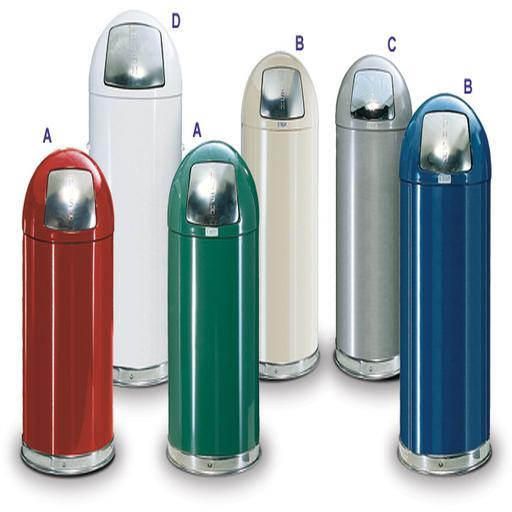Crewmate: (392, 92, 494, 476), (87, 7, 185, 388), (20, 146, 113, 478), (239, 49, 323, 382), (332, 53, 413, 382)
